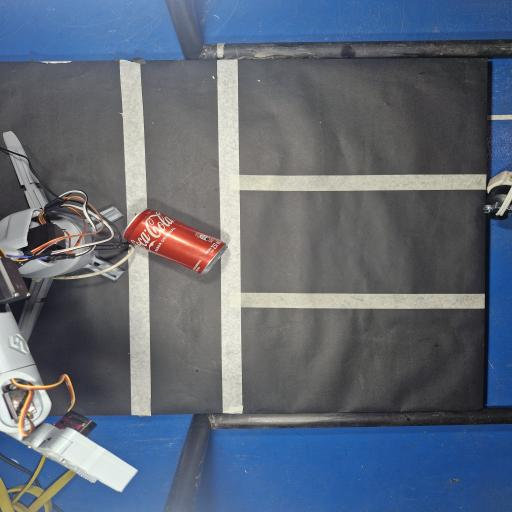lata: (124, 209, 226, 274)
